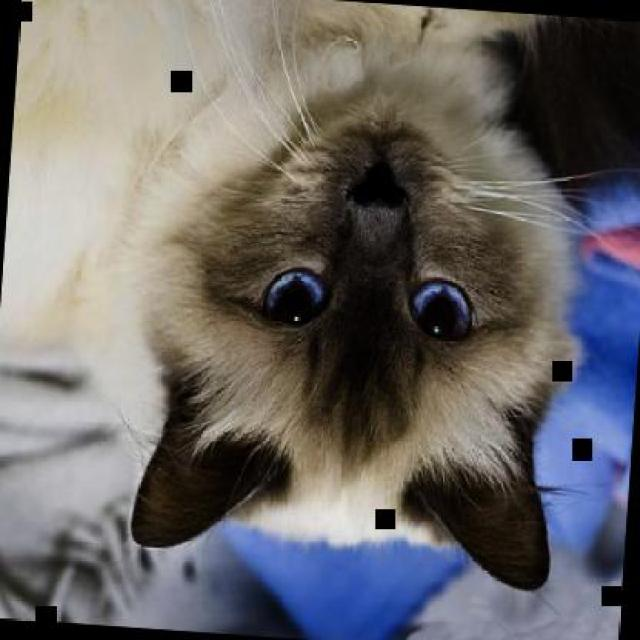cat: (0, 0, 594, 597)
